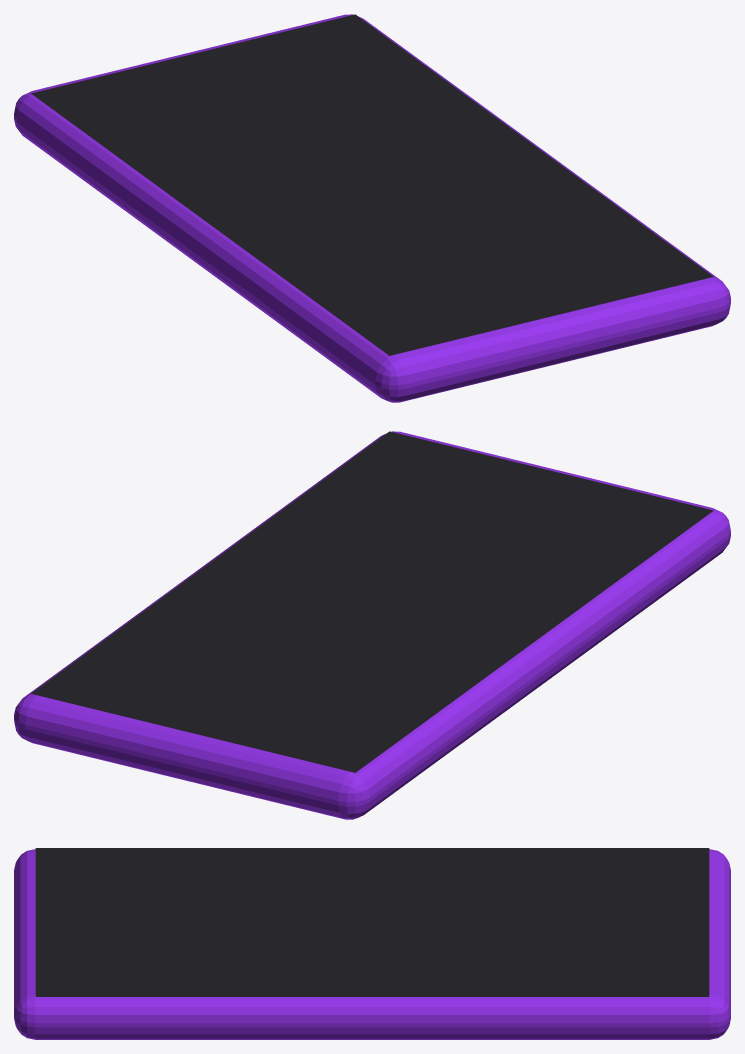
File: Phone_581.glb
The picture shows the model from 3 angles, top to bottom: view 1: azimuth 30°, elevation 25°; view 2: azimuth 150°, elevation 25°; view 3: azimuth 270°, elevation 25°; orthographic projection. The views are drawn at different scales.
Visible parts, largest first — view 1: Phone_Screen, Phone_Body; view 2: Phone_Screen, Phone_Body; view 3: Phone_Screen, Phone_Body.
Boxes of the visible parts, box(x1,y1,x2,y2) form: Phone_Screen: box(31, 14, 713, 355); Phone_Body: box(14, 14, 730, 402); Phone_Screen: box(31, 431, 713, 772); Phone_Body: box(14, 431, 730, 819); Phone_Screen: box(35, 848, 709, 996); Phone_Body: box(14, 849, 730, 1039).
Bounding box in the file's own units: 0.0781 × 0.0098 × 0.1463.
